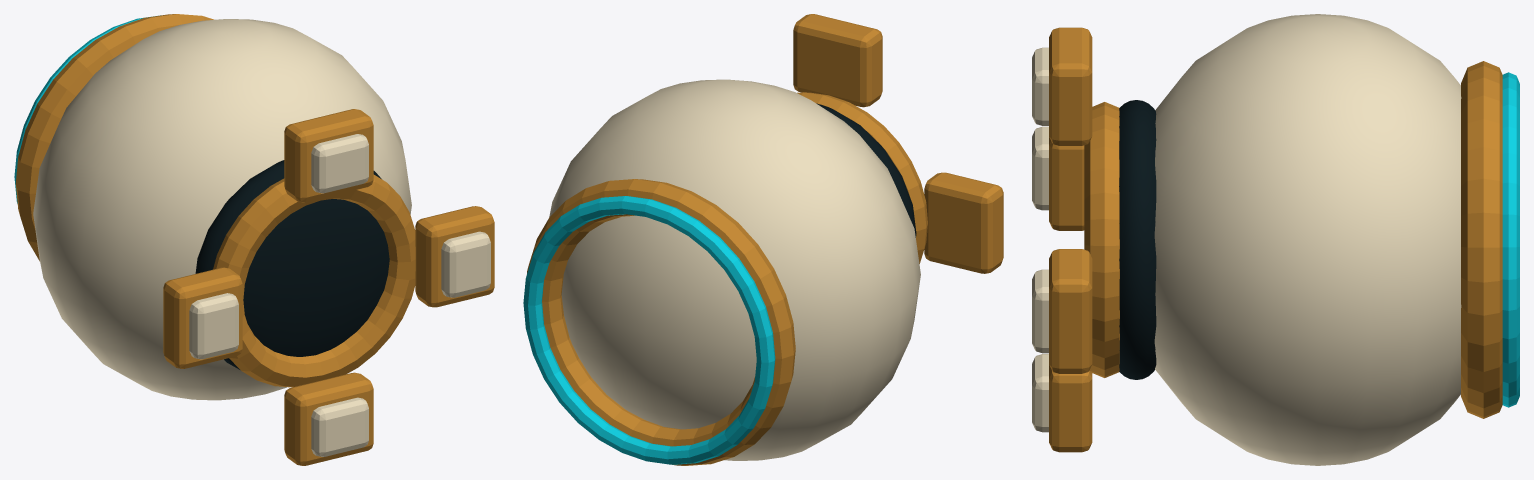
File: FearWormHead_2.obj
3 views of the same model, side by side, from view 1: azimuth 30°, elevation 25°; view 2: azimuth 150°, elevation 25°; view 3: azimuth 270°, elevation 25° (orthographic). The views are drawn at different scales.
Parts seen in each view (by area): view 1: Armoured_head; view 2: Armoured_head; view 3: Armoured_head.
Part boxes in pixels (x1=…): Armoured_head: x1=14, y1=14, x2=494, y2=465; Armoured_head: x1=523, y1=14, x2=1003, y2=465; Armoured_head: x1=1032, y1=14, x2=1519, y2=465.
Size of the model in its own units: 2 by 2 by 2.15.
Materials: 1 (1 with a texture image).
